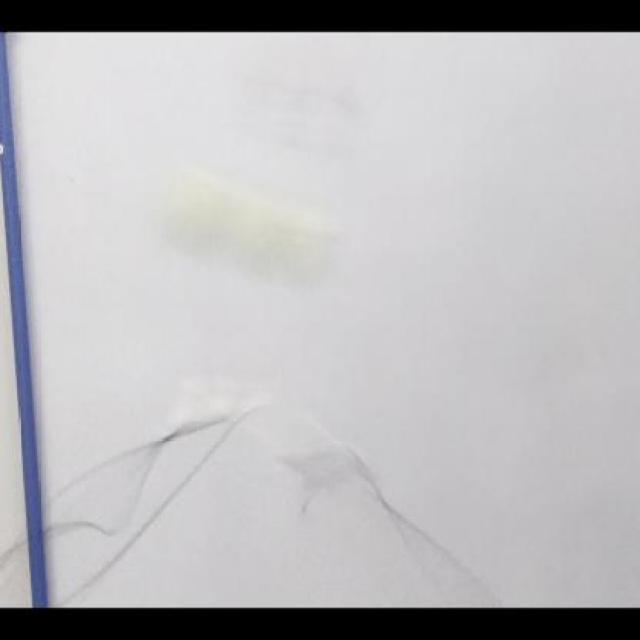baseball: (174, 160, 340, 292)
